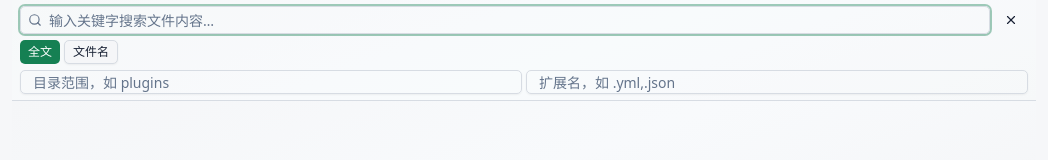
Test: SearchPanel › 提交目录与扩展名范围并高亮片段命中
In the field with placeholder "输入关键字搜索文件内容…": {"x": 505, "y": 20} [20,6,990,34], type "feature"
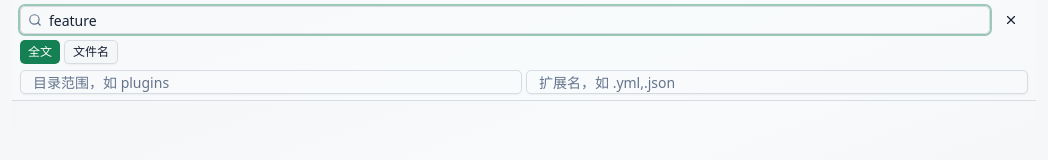
In the field labelled "目录范围": {"x": 271, "y": 82} [20,70,522,94], type "plugins"
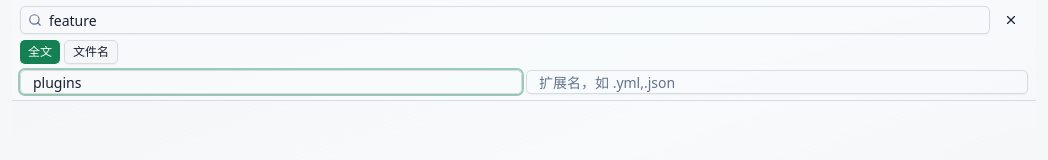
In the field named "扩展名范围": {"x": 777, "y": 82} [526,70,1028,94], type ".yml,.yaml"
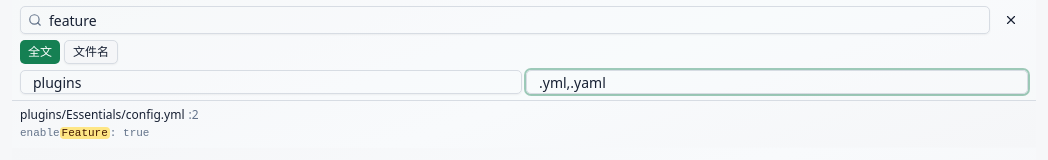
Expected: the text "plugins/Essentials/config.yml" is shown, [20,107,184,123]
Expected: the text "Feature" is shown, [60,127,110,139]
